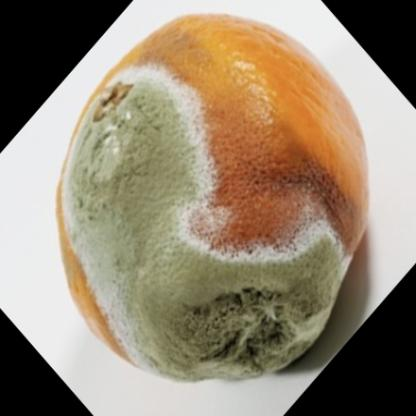rotten: (60, 16, 367, 380)
